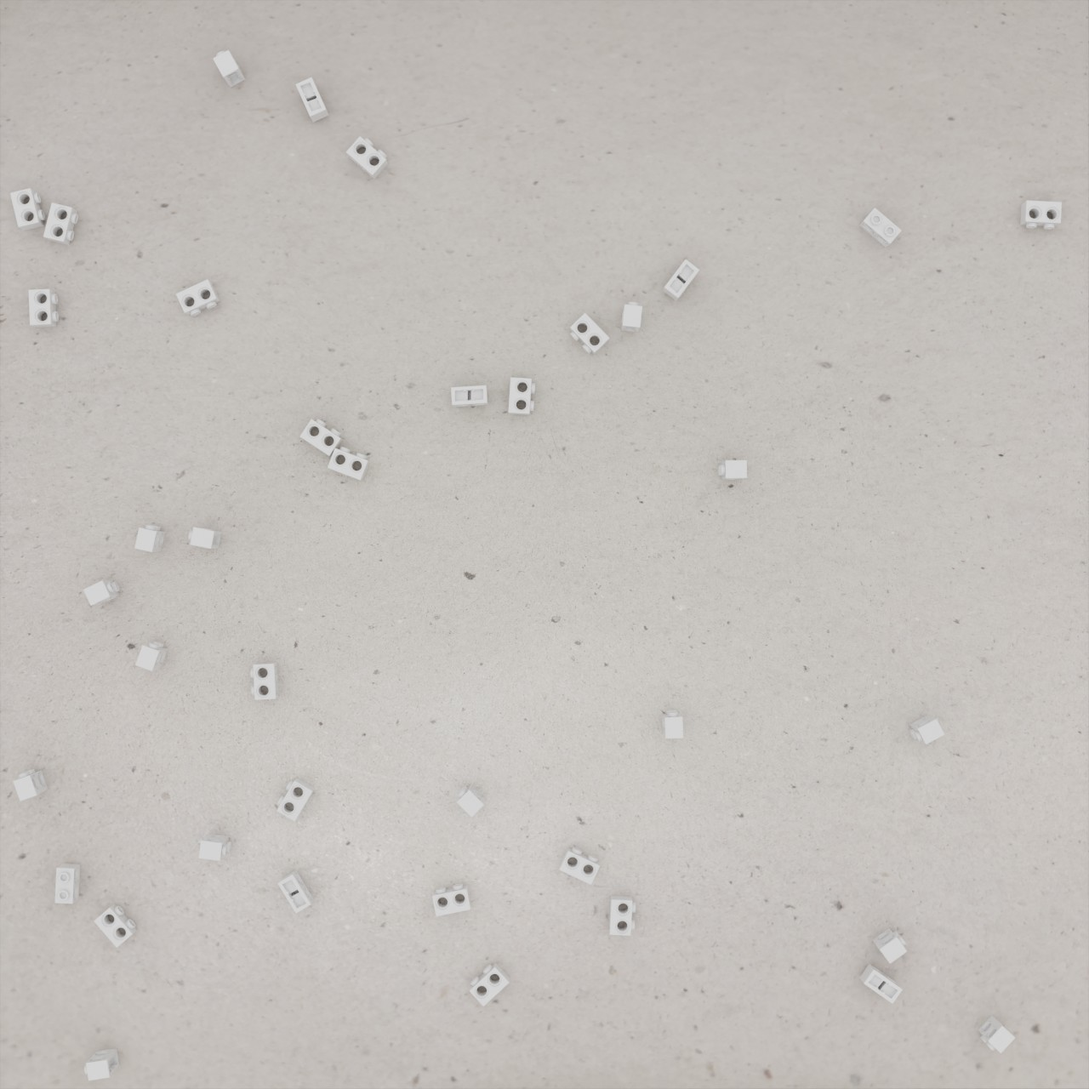lego: (94, 903, 137, 948), (469, 962, 510, 1007), (346, 136, 388, 179), (859, 963, 903, 1004), (859, 208, 902, 248), (276, 778, 315, 822), (570, 313, 610, 355), (300, 418, 343, 457), (176, 279, 220, 316), (277, 870, 314, 914), (662, 259, 700, 301), (559, 847, 600, 885), (295, 77, 329, 122), (10, 188, 45, 231), (327, 446, 370, 481), (43, 203, 78, 245), (978, 1015, 1015, 1054), (432, 883, 472, 917), (872, 928, 907, 964), (213, 50, 246, 88), (1020, 200, 1062, 229), (28, 289, 59, 328), (84, 1048, 120, 1081), (13, 769, 48, 801), (609, 895, 636, 936), (250, 662, 279, 700), (909, 715, 945, 745), (55, 863, 81, 904), (508, 377, 535, 415), (135, 641, 168, 671), (457, 784, 486, 818), (83, 580, 120, 606), (199, 834, 231, 861), (134, 525, 165, 552), (451, 385, 488, 407), (188, 527, 222, 549), (621, 302, 642, 332), (662, 710, 683, 739), (718, 460, 747, 480)
